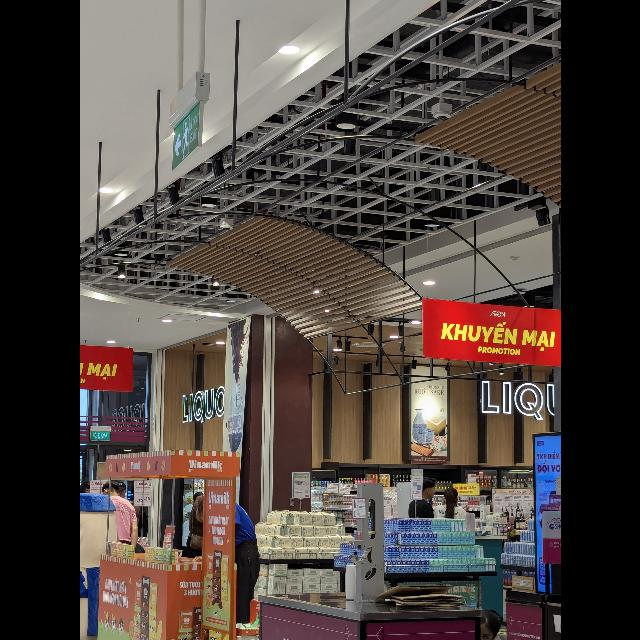exit: (171, 101, 201, 170)
